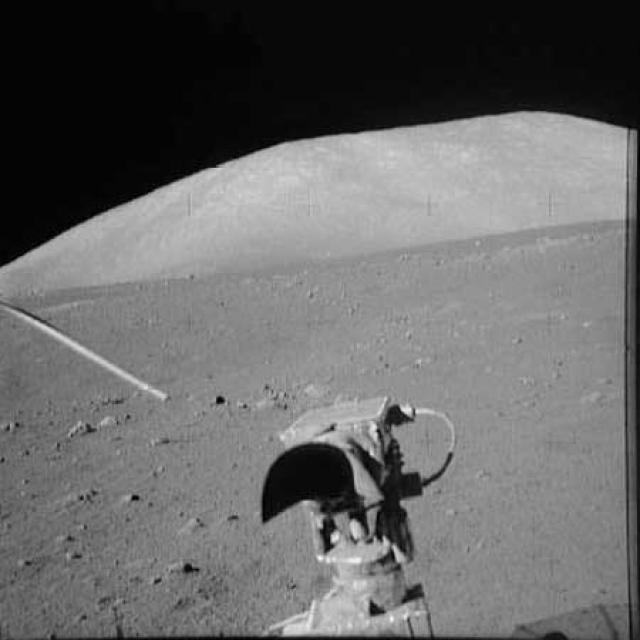artifact: (239, 390, 461, 639), (0, 296, 180, 407)
rock: (168, 512, 212, 544), (60, 482, 102, 509), (162, 552, 194, 581), (64, 415, 96, 442), (100, 405, 122, 437)
